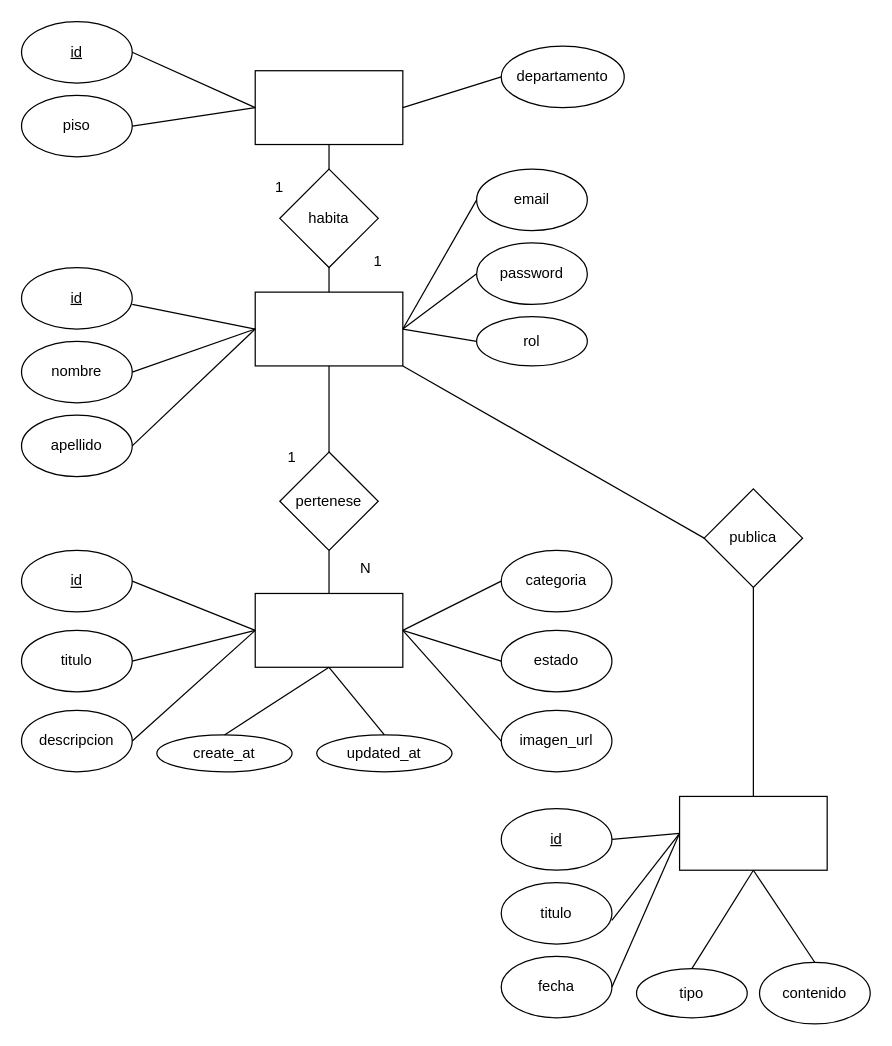
This 892x1046 diagram has some shape labels left out. The centre of each missing label's shape, as x and y in pixels:
"COMUNICADO" belongs at point 752,832.
"RECLAMO" belongs at point 328,629.
"UNIDAD" belongs at point 328,107.
"USUARIO" belongs at point 328,328.
